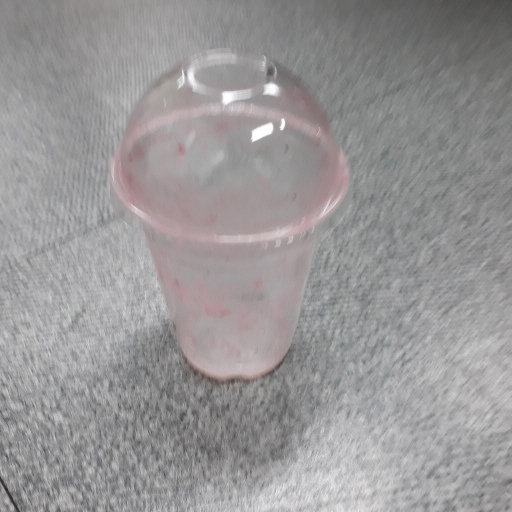Plastic_2: (104, 47, 357, 382)
